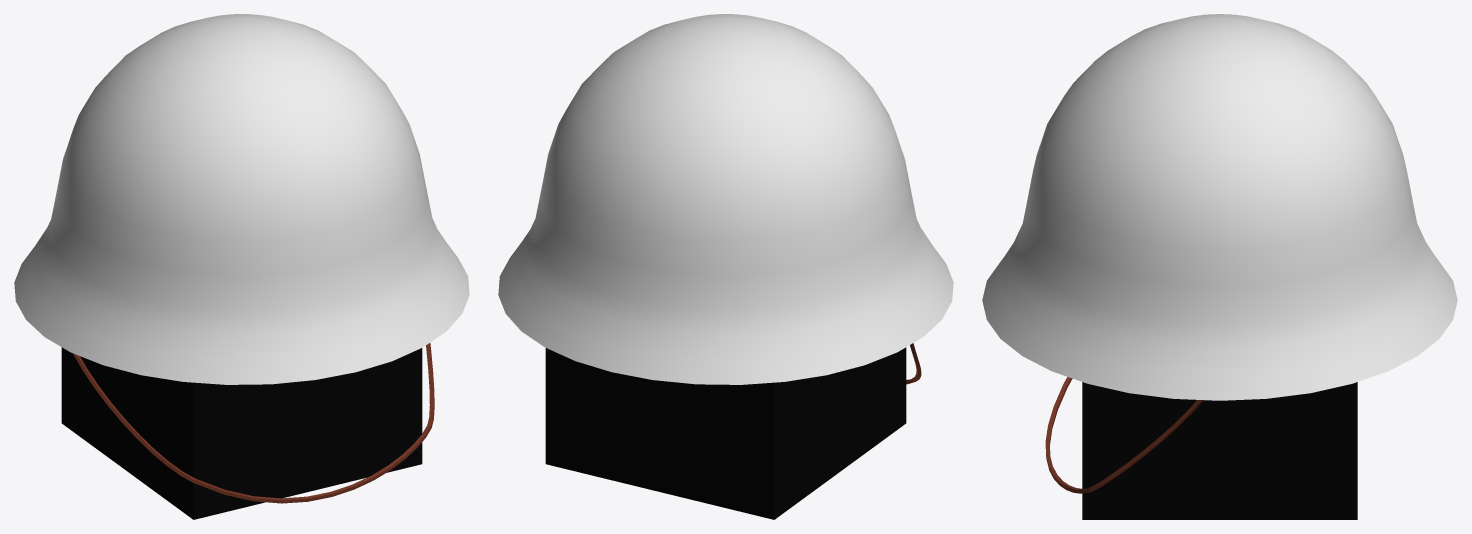
Rendered from helmet.fbx.
3 views of the same model, side by side, from view 1: azimuth 30°, elevation 25°; view 2: azimuth 150°, elevation 25°; view 3: azimuth 270°, elevation 25° (orthographic). The views are drawn at different scales.
Parts seen in each view (by area): view 1: helmet; view 2: helmet; view 3: helmet.
Part boxes in pixels (bbox=[...]): helmet: bbox=[14, 14, 469, 519]; helmet: bbox=[498, 14, 953, 519]; helmet: bbox=[982, 14, 1457, 519].
Bounding box in the file's own units: 345 × 345 × 345.
